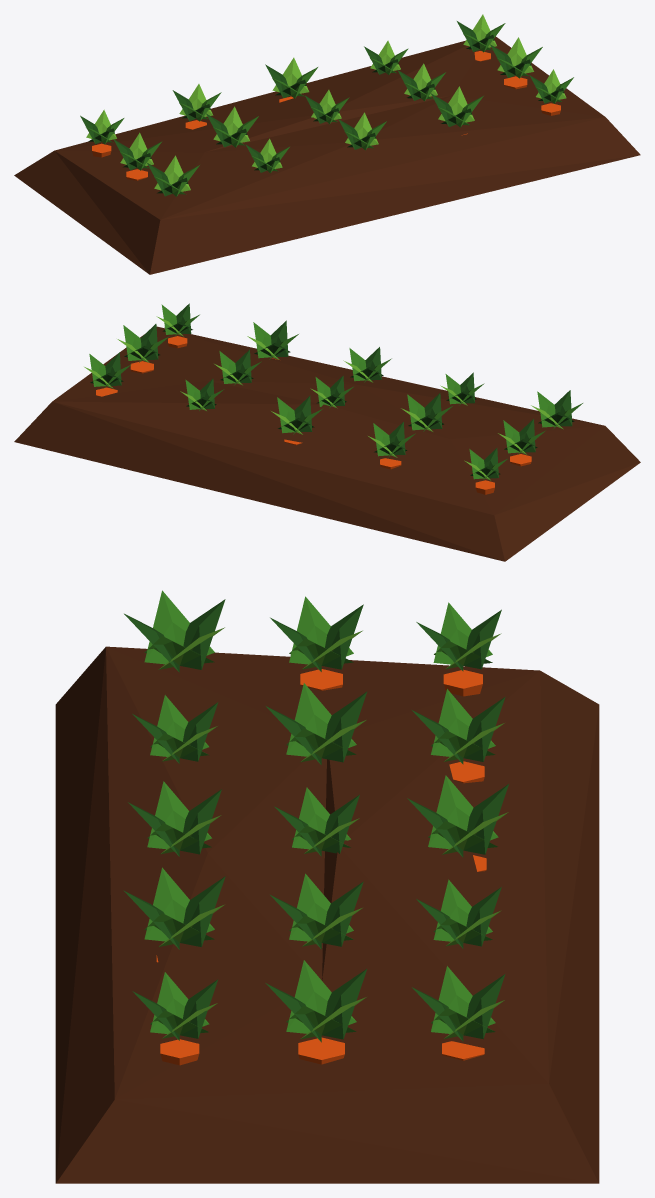
File: farm_bed_2x1_carrots.obj
The picture shows the model from 3 angles, top to bottom: view 1: azimuth 30°, elevation 25°; view 2: azimuth 150°, elevation 25°; view 3: azimuth 270°, elevation 25°; orthographic projection. The views are drawn at different scales.
Visible parts, largest first — view 1: soil, carrot_2_0_leaf2, carrot_1_1_leaf2, carrot_1_4_leaf2, carrot_2_3_leaf2, carrot_0_2_leaf2; view 2: soil; view 3: soil, carrot_1_1_leaf4, carrot_0_2_leaf4, carrot_1_4_leaf4, carrot_2_0_leaf4, carrot_2_3_leaf4, carrot_1_1_leaf3, carrot_1_4_leaf3, carrot_0_2_leaf3, carrot_2_3_leaf3, carrot_1_0_leaf4, carrot_2_0_leaf3 (+22 smaller).
Part boxes in pixels (box(x1,y1,x2,y2)): soil: box(14, 36, 640, 274); carrot_2_0_leaf2: box(154, 155, 190, 191); carrot_1_1_leaf2: box(213, 106, 249, 142); carrot_1_4_leaf2: box(497, 37, 533, 73); carrot_2_3_leaf2: box(438, 86, 474, 122); carrot_0_2_leaf2: box(272, 57, 309, 93); soil: box(14, 326, 640, 561); soil: box(55, 646, 599, 1183); carrot_1_1_leaf4: box(286, 683, 356, 756); carrot_0_2_leaf4: box(428, 775, 498, 848); carrot_1_4_leaf4: box(286, 960, 356, 1033); carrot_2_0_leaf4: box(144, 590, 214, 664); carrot_2_3_leaf4: box(144, 867, 214, 941); carrot_1_1_leaf3: box(322, 691, 367, 762); carrot_1_4_leaf3: box(322, 969, 366, 1039); carrot_0_2_leaf3: box(464, 784, 508, 854); carrot_2_3_leaf3: box(180, 876, 225, 946); carrot_1_0_leaf4: box(289, 596, 353, 664); carrot_2_0_leaf3: box(180, 599, 225, 669).
Size of the model in its own units: 1.92 by 0.2853 by 0.92.
